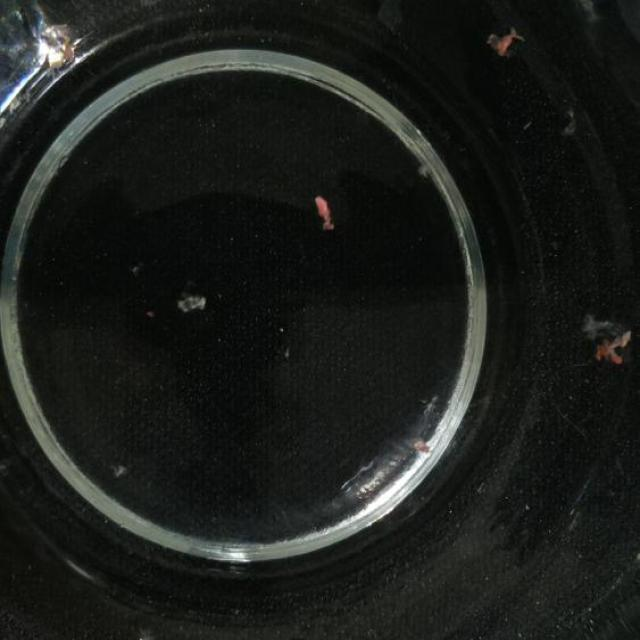fiber: (580, 313, 634, 369), (485, 27, 528, 56), (314, 196, 339, 232), (177, 289, 208, 317), (562, 108, 585, 138), (108, 458, 132, 482), (414, 156, 434, 180), (144, 303, 163, 324), (414, 436, 430, 454), (283, 343, 296, 361), (126, 262, 144, 275)
